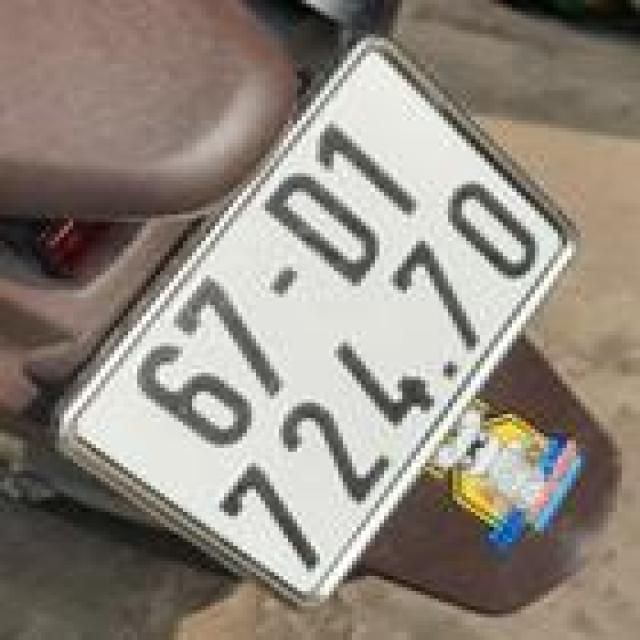0: (431, 166, 558, 299)
1: (298, 104, 442, 235)
2: (266, 373, 412, 520)
4: (312, 320, 451, 450)
6: (111, 326, 270, 461)
7: (192, 440, 341, 589), (159, 269, 307, 412), (373, 226, 503, 371)
D: (245, 158, 400, 301)
